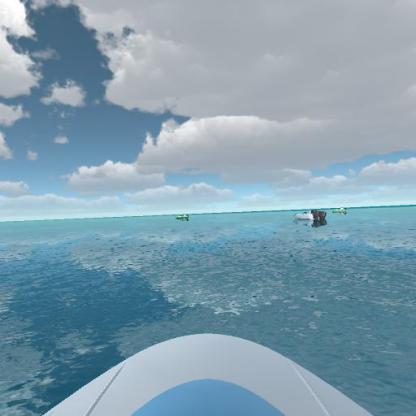usv0: (174, 210, 193, 224), (332, 205, 350, 216)
usv1: (290, 207, 328, 226)
